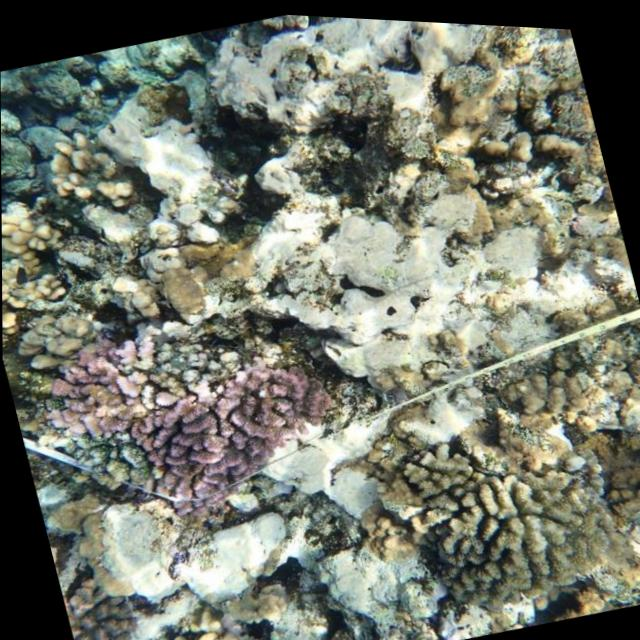Bleached Coral: (256, 173, 539, 396), (61, 456, 319, 640), (316, 13, 508, 140), (104, 84, 246, 245), (112, 309, 256, 411)
Healthy Coral: (115, 346, 369, 507), (402, 455, 635, 613)
